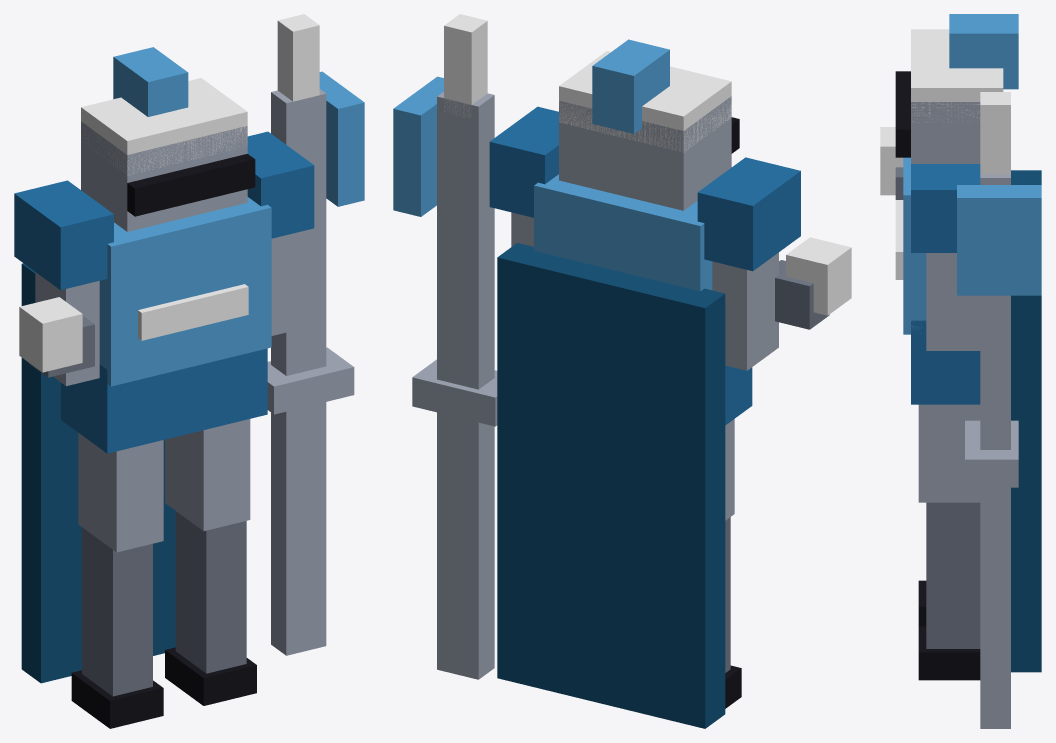
Rendered from commander.gltf.
3 views of the same model, side by side, from view 1: azimuth 30°, elevation 25°; view 2: azimuth 150°, elevation 25°; view 3: azimuth 270°, elevation 25° (orthographic). The views are drawn at different scales.
Visible parts, largest first — view 1: 08_comms_mast, 12_cuirass, 04_command_drape, 09_hip_armour, 02_left_shin, 03_right_shin, 17_left_pauldron, 19_open_helm, 05_left_thigh, 06_right_thigh, 22_circlet, 18_right_pauldron (+12 smaller); view 2: 04_command_drape, 08_comms_mast, 12_cuirass, 19_open_helm, 17_left_pauldron, 22_circlet, 18_right_pauldron, 10_left_arm, 23_plume, 16_mast_pennant, 21_mast_tip, 15_sidearm_muzzle_vent (+5 smaller); view 3: 08_comms_mast, 04_command_drape, 16_mast_pennant, 03_right_shin, 06_right_thigh, 22_circlet, 18_right_pauldron, 11_right_arm, 19_open_helm, 09_hip_armour, 23_plume, 07_array_element (+8 smaller).
Part boxes in pixels (bbox=[...]): 08_comms_mast: bbox=[271, 89, 326, 655]; 12_cuirass: bbox=[99, 197, 271, 386]; 04_command_drape: bbox=[21, 263, 175, 683]; 09_hip_armour: bbox=[61, 348, 267, 453]; 02_left_shin: bbox=[82, 527, 152, 696]; 03_right_shin: bbox=[175, 511, 246, 673]; 17_left_pauldron: bbox=[14, 180, 113, 290]; 19_open_helm: bbox=[81, 121, 247, 231]; 05_left_thigh: bbox=[78, 433, 163, 552]; 06_right_thigh: bbox=[165, 419, 250, 531]; 22_circlet: bbox=[81, 78, 247, 175]; 18_right_pauldron: bbox=[247, 131, 314, 238]; 04_command_drape: bbox=[497, 243, 725, 728]; 08_comms_mast: bbox=[437, 92, 494, 679]; 12_cuirass: bbox=[534, 174, 712, 291]; 19_open_helm: bbox=[559, 96, 731, 210]; 17_left_pauldron: bbox=[697, 157, 800, 271]; 22_circlet: bbox=[559, 51, 731, 152]; 18_right_pauldron: bbox=[489, 106, 558, 217]; 10_left_arm: bbox=[712, 252, 778, 370]; 23_plume: bbox=[592, 39, 669, 133]; 16_mast_pennant: bbox=[393, 76, 443, 216]; 21_mast_tip: bbox=[444, 14, 487, 117]; 15_sidearm_muzzle_vent: bbox=[786, 237, 851, 315]; 08_comms_mast: bbox=[980, 174, 1010, 728]; 04_command_drape: bbox=[1011, 170, 1041, 672]; 16_mast_pennant: bbox=[957, 185, 1041, 295]; 03_right_shin: bbox=[926, 502, 980, 648]; 06_right_thigh: bbox=[918, 404, 980, 502]; 22_circlet: bbox=[911, 29, 1003, 122]; 18_right_pauldron: bbox=[911, 164, 980, 252]; 11_right_arm: bbox=[926, 253, 980, 350]; 19_open_helm: bbox=[911, 102, 980, 163]; 09_hip_armour: bbox=[911, 320, 980, 404]; 23_plume: bbox=[949, 14, 1018, 89]; 07_array_element: bbox=[965, 420, 1018, 487].
Bounding box in the file's own units: 0.8438 × 1.39 × 0.3281.
